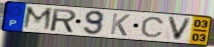9: (82, 10, 106, 37)
C: (140, 16, 166, 38)
K: (108, 12, 132, 37)
M: (21, 5, 55, 33)
R: (50, 8, 79, 34)
V: (166, 15, 193, 42)
